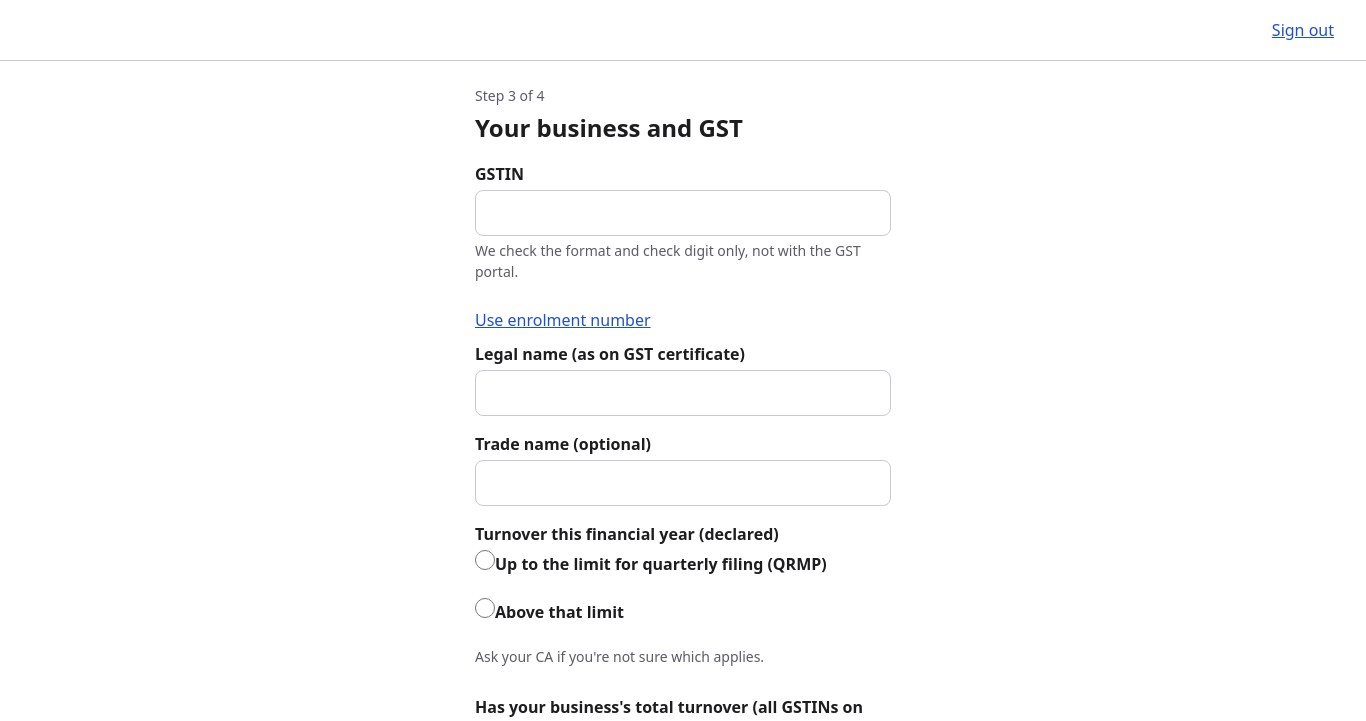
Test: the GSTIN hint › waits for 15 characters or leaving the field before saying it's short
Expected: the heading "Your business and GST" is shown, x1=475 y1=111 x2=743 y2=144
Type "27AAPFU" into the field labelled "GSTIN".
click(683, 213); type("27AAPFU")  # box x1=475 y1=190 x2=891 y2=236
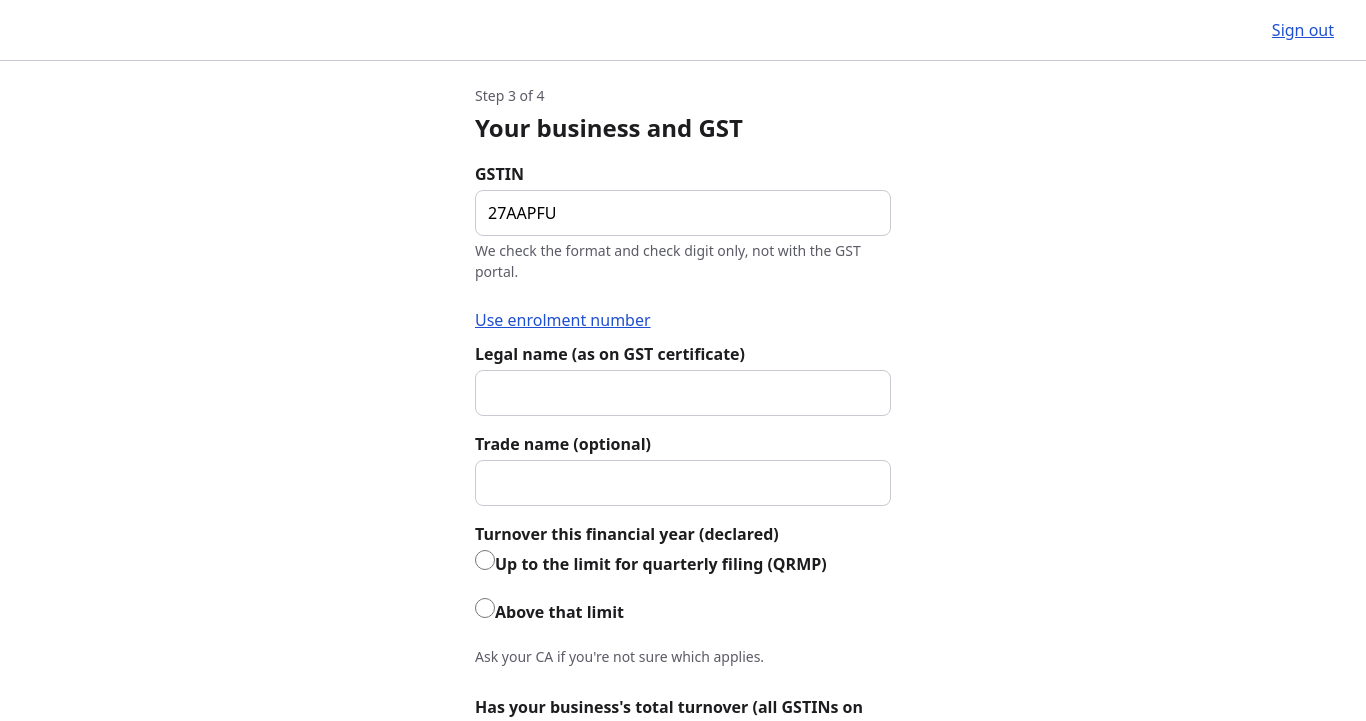
Expected: the text "it needs 15" is not shown
Leave the field labelled "GSTIN", box x1=475 y1=190 x2=891 y2=236
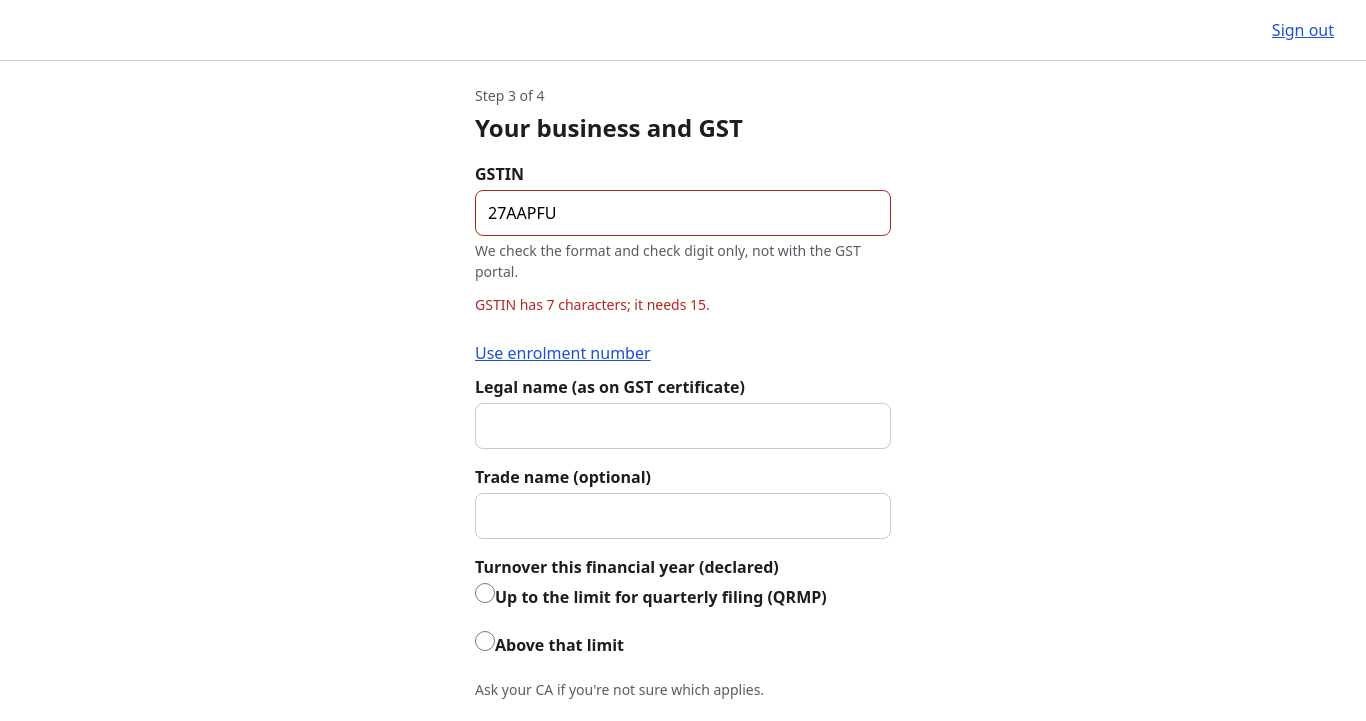
Expected: the text "GSTIN has 7 characters; it needs 15." is shown, x1=475 y1=295 x2=710 y2=314
